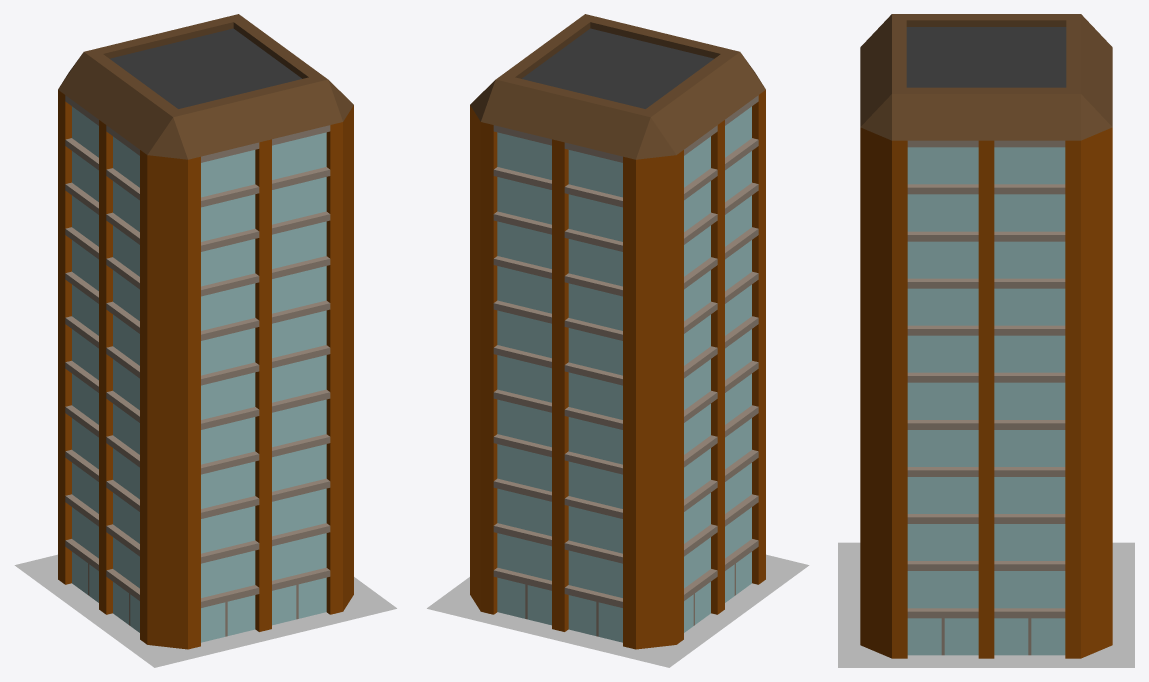
Rendered from building1-5.dae.
3 renders of one model, left to right at view 1: azimuth 30°, elevation 25°; view 2: azimuth 150°, elevation 25°; view 3: azimuth 270°, elevation 25°, orthographic. The views are drawn at different scales.
Visible parts, largest first — view 1: SketchUp (×73); view 2: SketchUp (×73); view 3: SketchUp (×53).
Boxes of the visible parts, left/top/right/bottom form: SketchUp (×73): left=14, top=14, right=396, bottom=667; SketchUp (×73): left=427, top=14, right=809, bottom=667; SketchUp (×53): left=838, top=14, right=1134, bottom=667.
Size of the model in its own units: 39.37 by 39.37 by 80.67.
